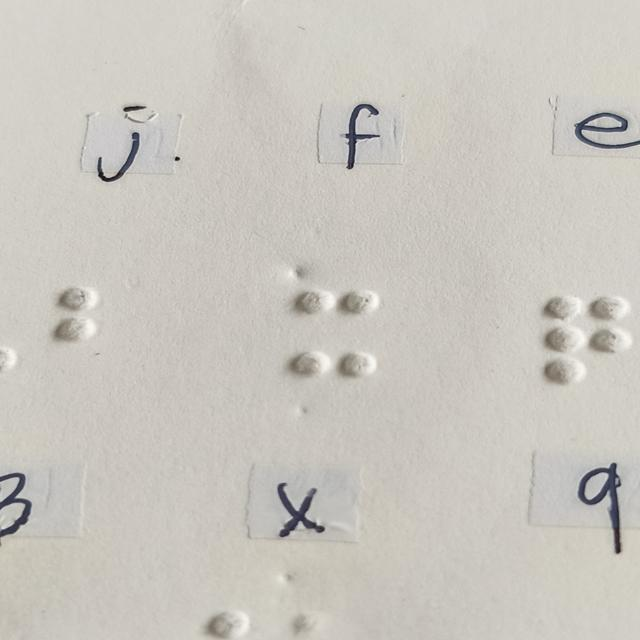b: (56, 286, 141, 374)
q: (546, 295, 631, 383)
x: (293, 290, 377, 377)
